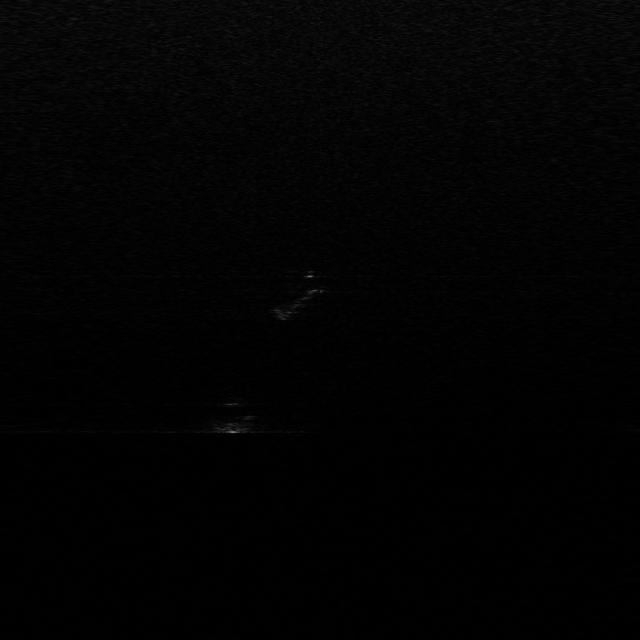ball: (208, 400, 256, 432)
tyre: (273, 272, 319, 319)
